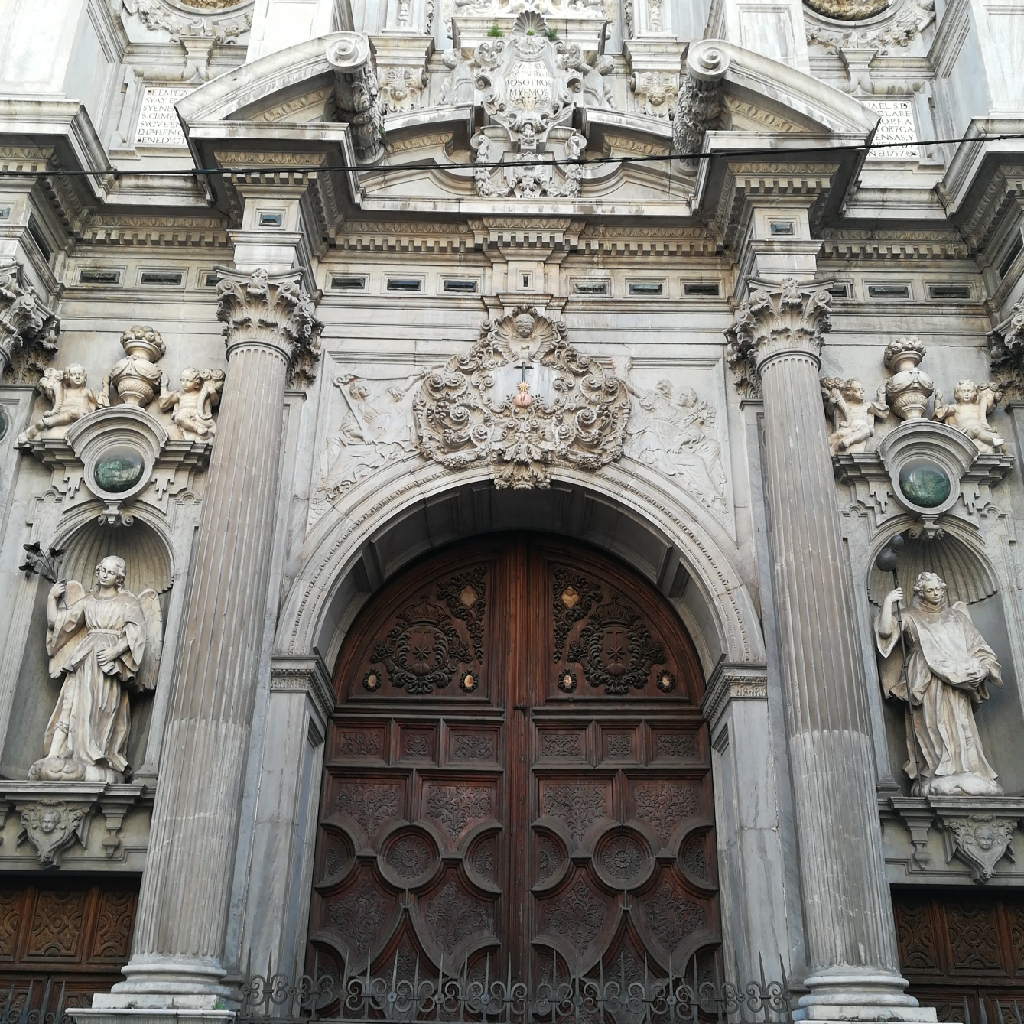arco-medio-punto: (295, 466, 748, 725)
fronton-partido: (174, 36, 862, 178)
